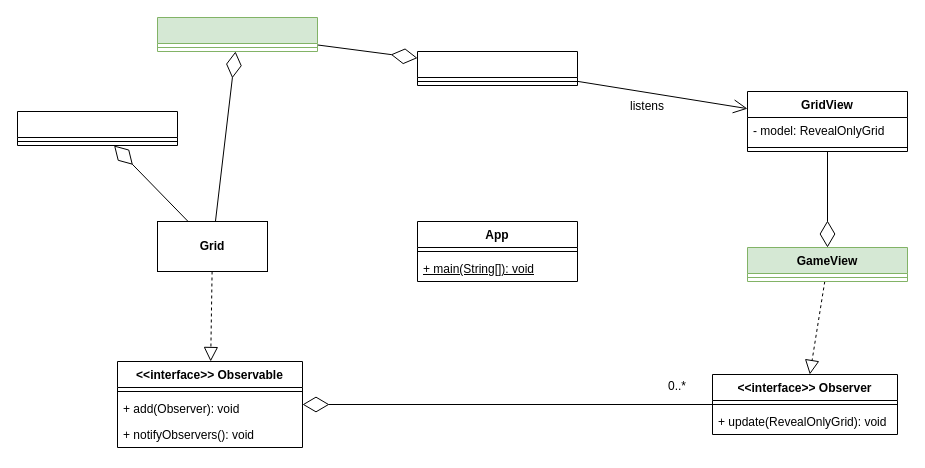
The diagram is 925 pixels wide and 468 high, and some of its shapes have lost their labels. The shapes that lost their labels are listed below. From the top down, each one's centre as x and y in pixels, then its label:
At point 237,34: "Game".
At point 497,68: "GameController".
At point 97,128: "RevealOnlyGrid".
